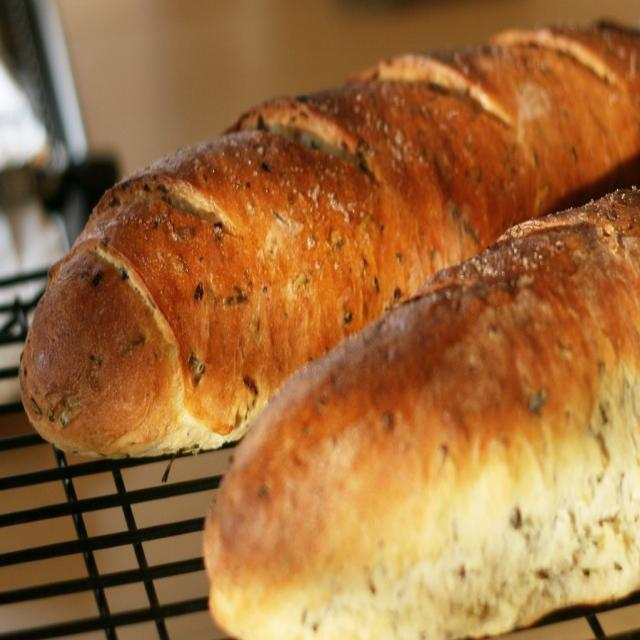Bread: (22, 10, 640, 440), (202, 189, 640, 640)
